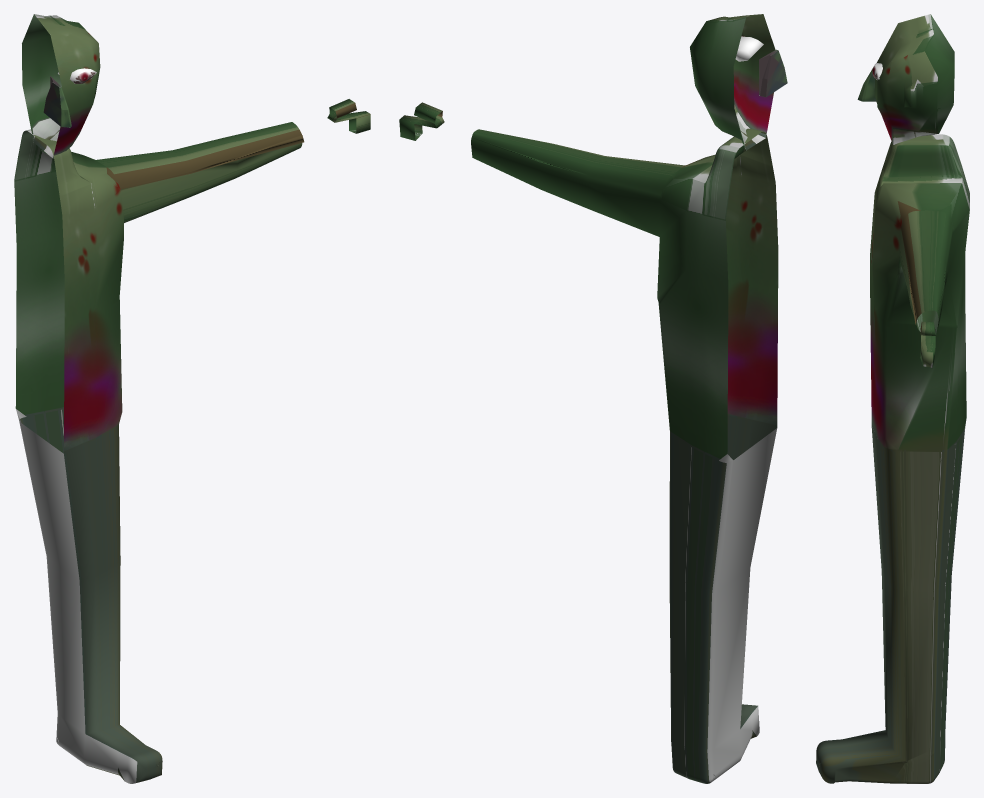
File: Xoors.glb
3 renders of one model, left to right at view 1: azimuth 30°, elevation 25°; view 2: azimuth 150°, elevation 25°; view 3: azimuth 270°, elevation 25°, orthographic. The views are drawn at different scales.
Visible parts, largest first — view 1: Cube.001, Cube; view 2: Cube.001, Cube; view 3: Cube.001, Cube.
Part boxes in pixels (x1,y1,x2,y2): Cube.001: (14,14,370,783); Cube: (43,76,71,127); Cube.001: (399,14,778,783); Cube: (759,49,787,97); Cube.001: (816,14,969,783); Cube: (857,66,876,101).
Bounding box in the file's own units: 4.25 × 8.92 × 1.68.
Materials: 3 (3 with a texture image).
